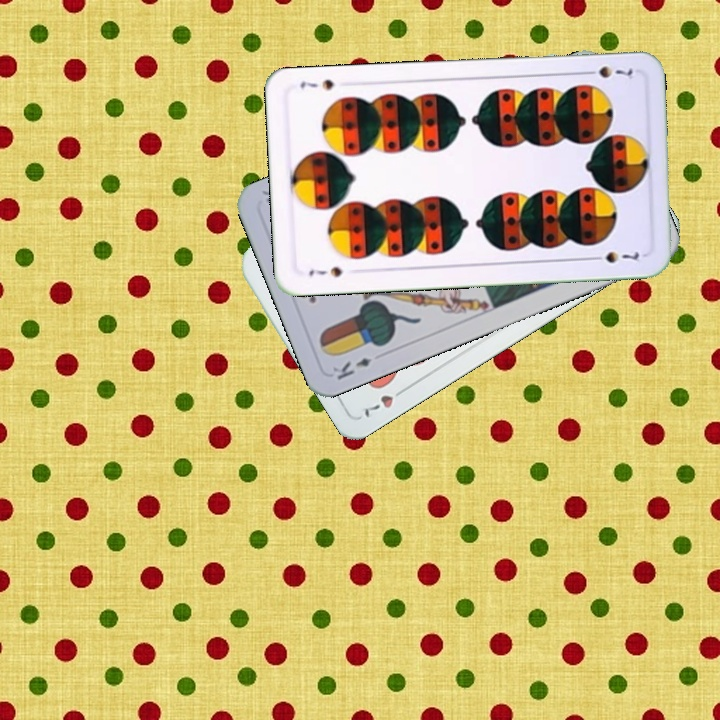EK: (328, 353, 374, 383)
H7: (358, 382, 411, 420)
S7: (579, 62, 638, 82), (305, 262, 345, 280)
